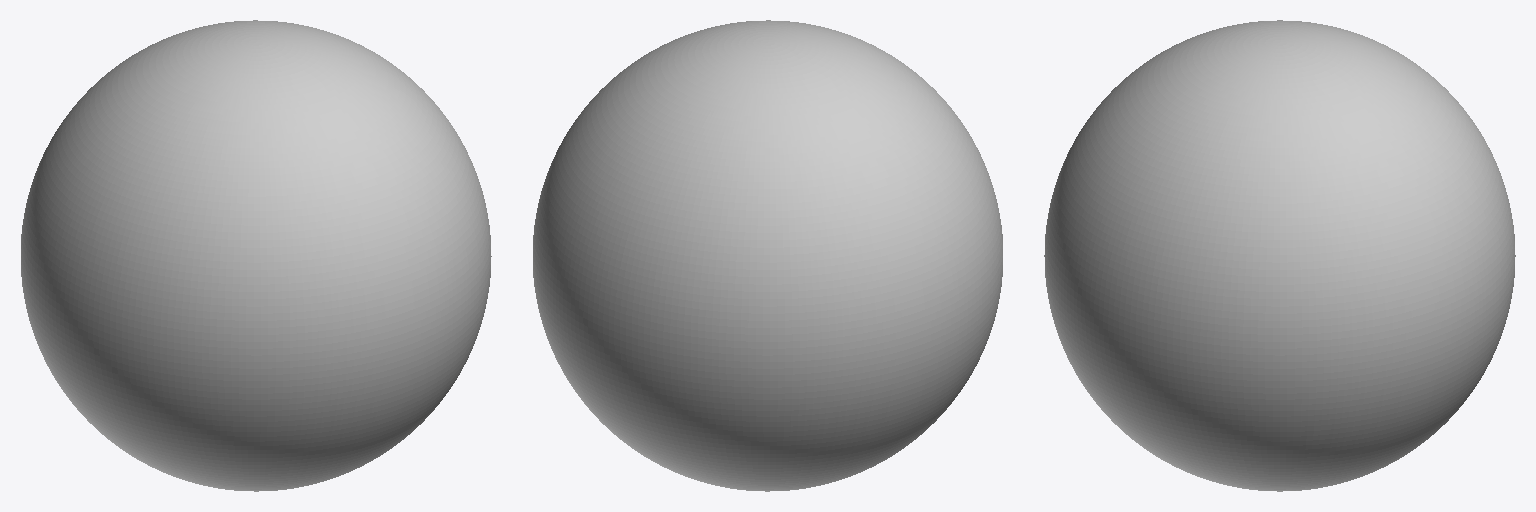
File: ball2.obj
3 renders of one model, left to right at view 1: azimuth 30°, elevation 25°; view 2: azimuth 150°, elevation 25°; view 3: azimuth 270°, elevation 25°, orthographic.
Visible parts, largest first — view 1: Sphere.001; view 2: Sphere.001; view 3: Sphere.001.
Part boxes in pixels (x1,y1,x2,y2): Sphere.001: (21,20,491,491); Sphere.001: (533,20,1002,491); Sphere.001: (1044,20,1515,491).
Bounding box in the file's own units: 2 × 2 × 2.